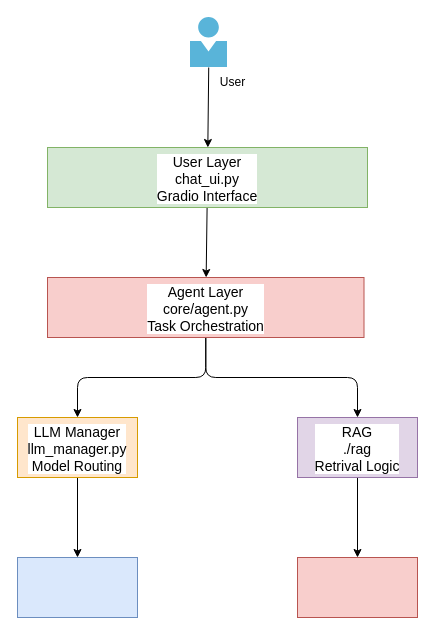
The diagram is 435 pixels wide and 635 high, and some of its shapes have lost their labels. Each missing label, with the box of its shape:
LLM Models (DeepSeek): (16, 556, 138, 618)
Vector Store vector_store.py: (296, 556, 418, 618)
